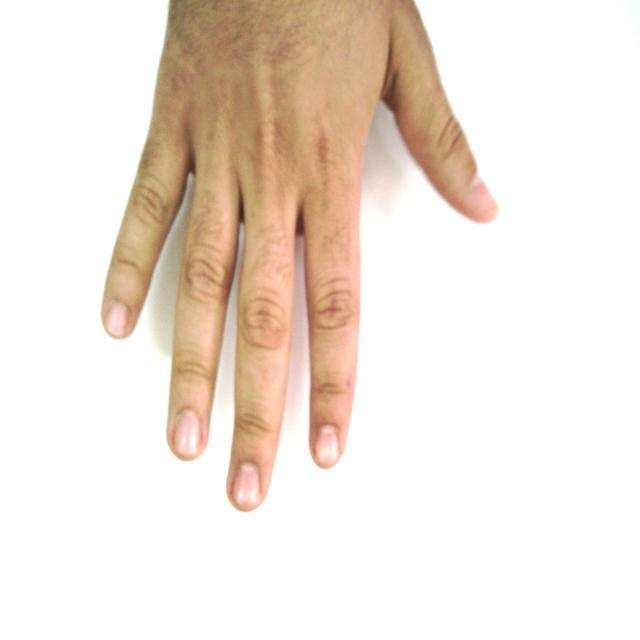Fingernail: (175, 410, 201, 456), (235, 463, 260, 509), (316, 426, 338, 465), (471, 180, 496, 213), (107, 305, 130, 335)
